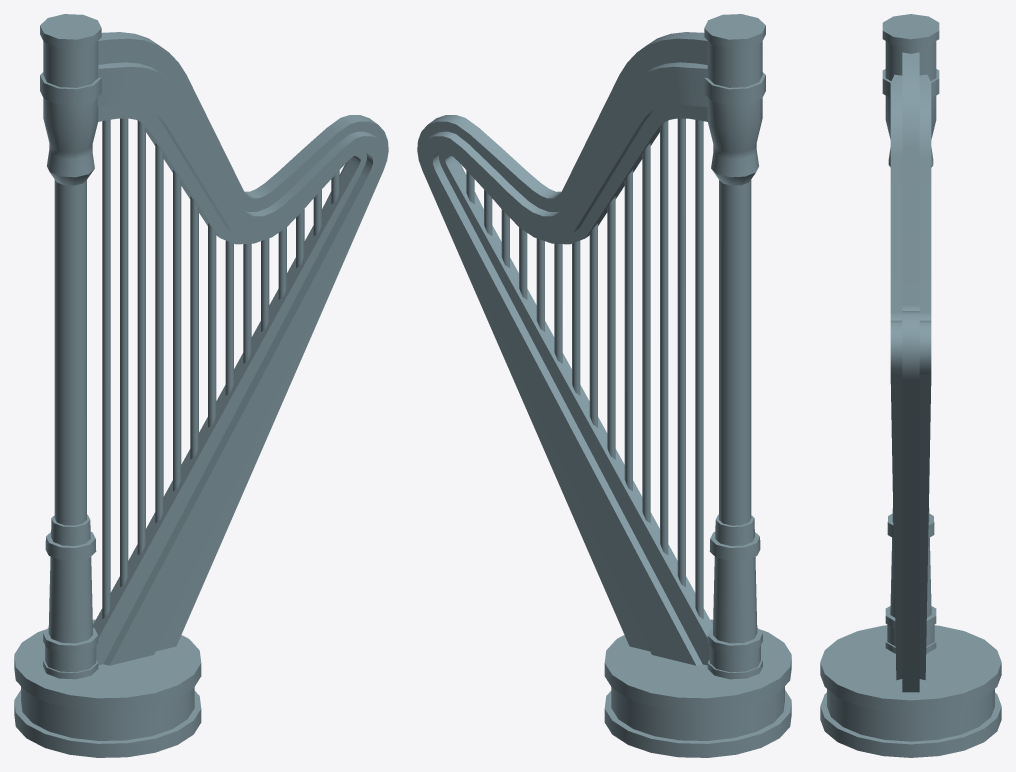
The model's file is Harp.fbx.
The picture shows the model from 3 angles, left to right: view 1: azimuth 30°, elevation 25°; view 2: azimuth 150°, elevation 25°; view 3: azimuth 270°, elevation 25°; orthographic projection. The views are drawn at different scales.
Parts seen in each view (by area): view 1: Harp; view 2: Harp; view 3: Harp.
Boxes of the visible parts, box(x1,y1,x2,y2) form: Harp: box(14, 14, 388, 757); Harp: box(417, 14, 791, 757); Harp: box(820, 14, 1001, 757).
Size of the model in its own units: 89.38 by 167 by 40.68.
